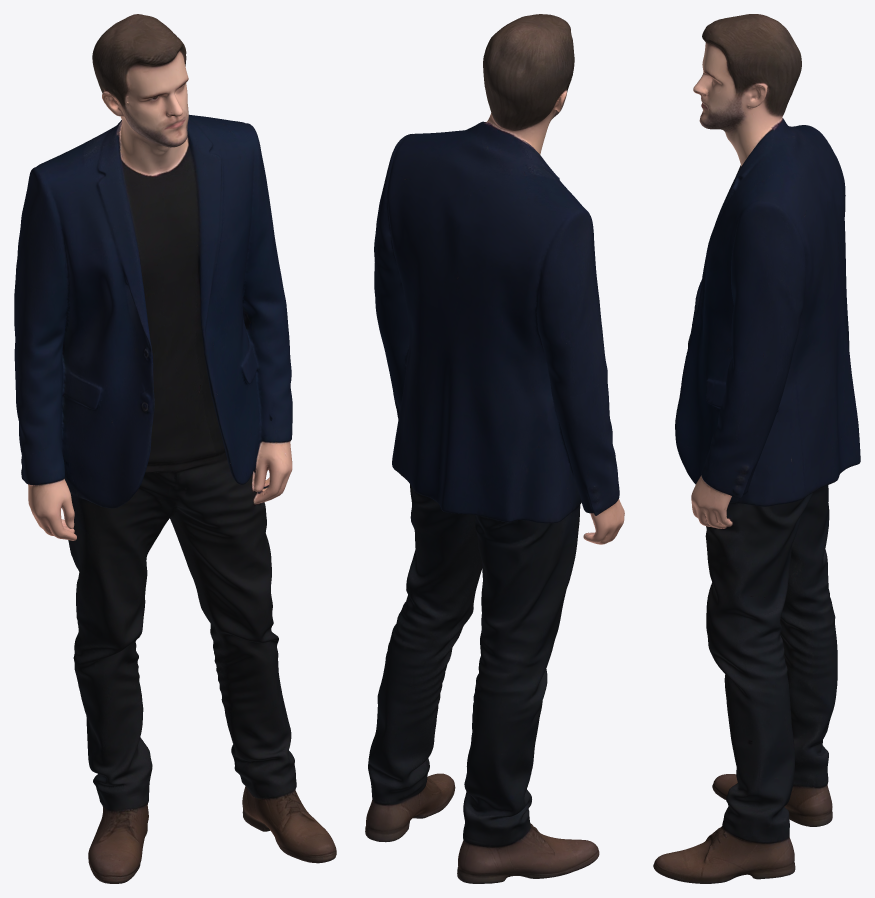
The model's file is navy_blazer_ensemble.glb.
The picture shows the model from 3 angles, left to right: view 1: azimuth 30°, elevation 25°; view 2: azimuth 150°, elevation 25°; view 3: azimuth 270°, elevation 25°; orthographic projection. The views are drawn at different scales.
Parts seen in each view (by area): view 1: Object_5, Object_6; view 2: Object_6, Object_5; view 3: Object_5, Object_6.
Part boxes in pixels (x1,y1,x2,y2): Object_5: (17,14,336,883); Object_6: (14,18,295,883); Object_6: (365,16,624,883); Object_5: (371,14,619,878); Object_5: (653,14,837,883); Object_6: (710,14,860,883).
Bounding box in the file's own units: 0.6172 × 1.9 × 0.4486.
Materials: 1 (1 with a texture image).
